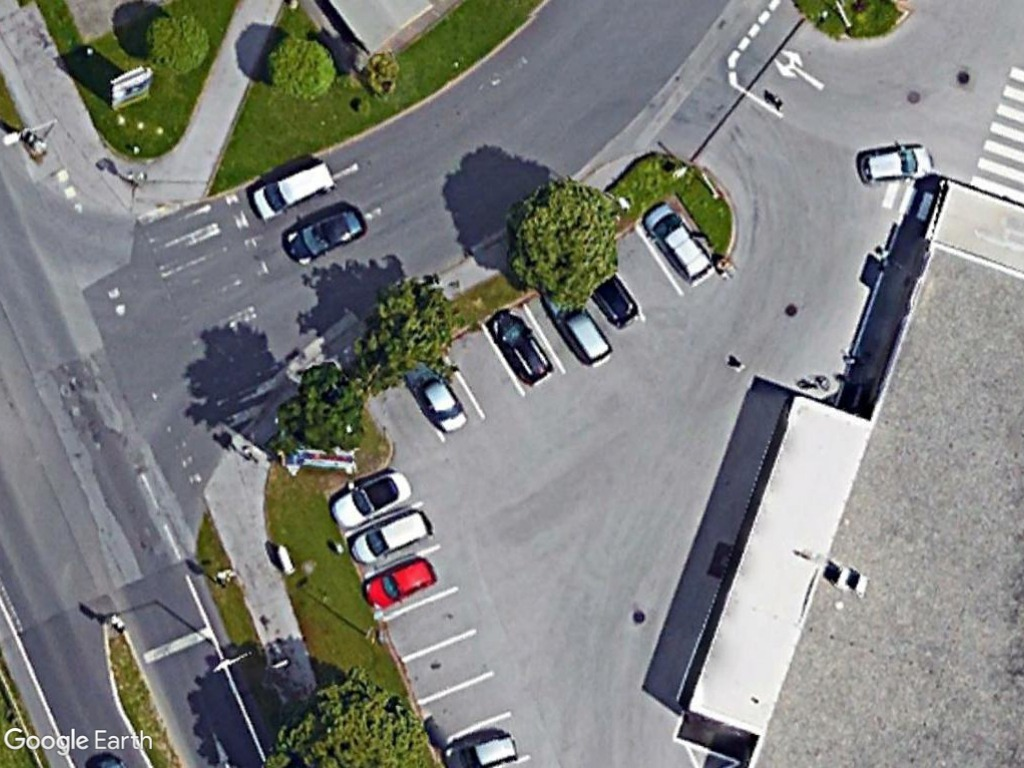car: (638, 197, 717, 289), (279, 198, 369, 268), (346, 503, 435, 572), (484, 308, 559, 389), (324, 467, 413, 535), (357, 551, 439, 614), (404, 363, 471, 438), (851, 138, 940, 189)
van: (243, 153, 340, 226)
